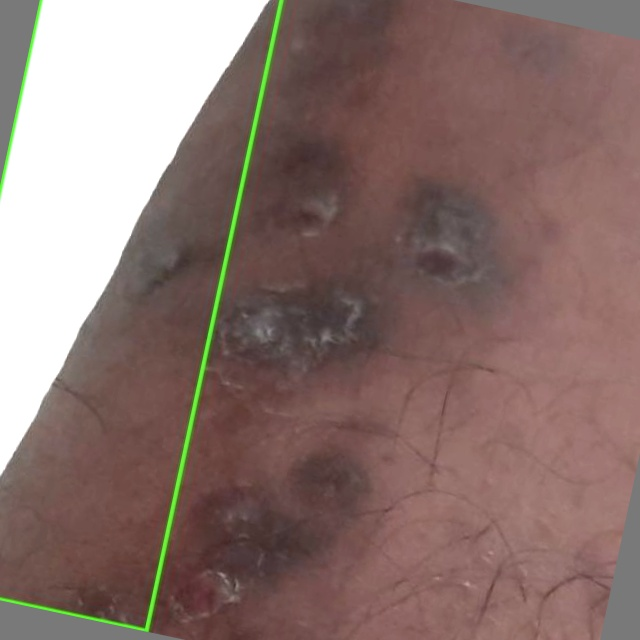Eczema: (0, 0, 281, 631)
